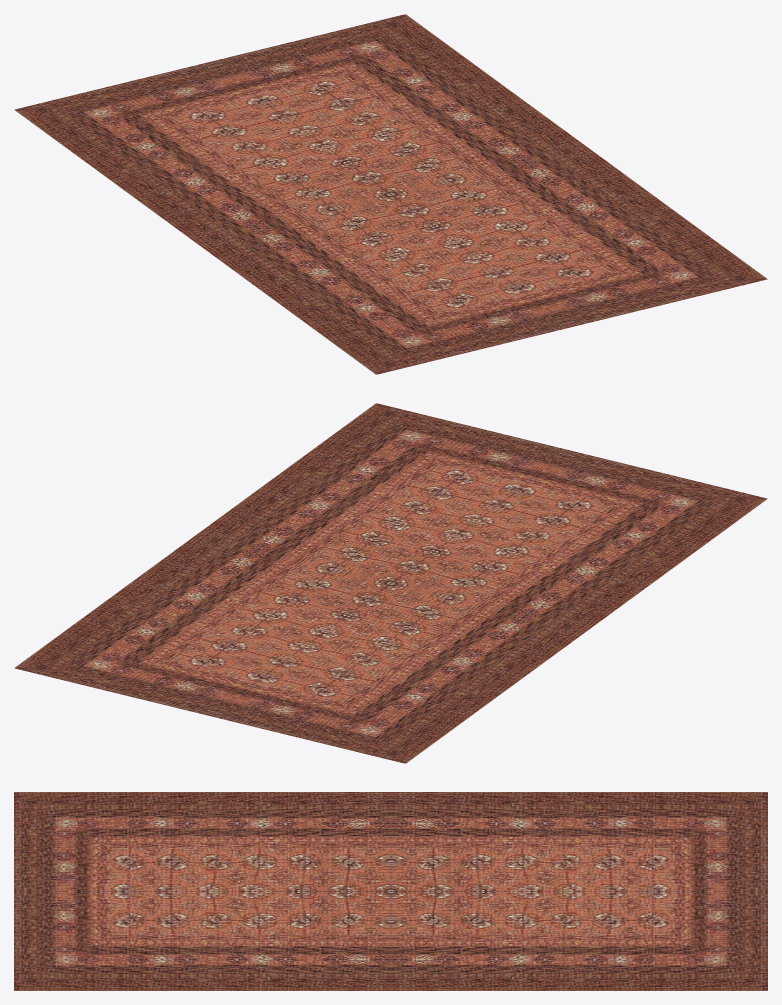
File: frn_all_rug_rectangle_m_s01.fbx
3 renders of one model, top to bottom at view 1: azimuth 30°, elevation 25°; view 2: azimuth 150°, elevation 25°; view 3: azimuth 270°, elevation 25°, orthographic. The views are drawn at different scales.
Parts seen in each view (by area): view 1: mesh_node; view 2: mesh_node; view 3: mesh_node.
Boxes of the visible parts, x1,y1,x2,y2 form: mesh_node: (14, 14, 767, 374); mesh_node: (14, 403, 767, 763); mesh_node: (14, 792, 767, 990).
Bounding box in the file's own units: 3.68 × 0 × 5.9.
Materials: 1 (1 with a texture image).
